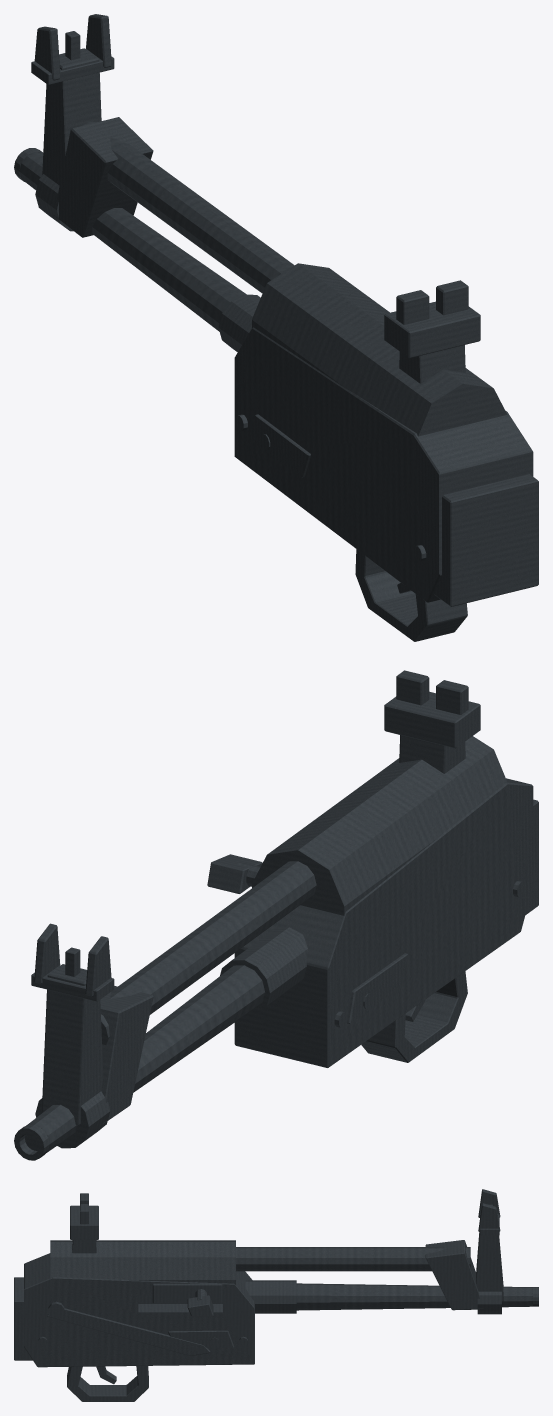
The model's file is weapon_aks74u.glb.
3 renders of one model, top to bottom at view 1: azimuth 30°, elevation 25°; view 2: azimuth 150°, elevation 25°; view 3: azimuth 270°, elevation 25°, orthographic. The views are drawn at different scales.
Visible parts, largest first — view 1: body_LOD0; view 2: body_LOD0, action_LOD0; view 3: body_LOD0, action_LOD0.
Boxes of the visible parts, bbox=[...] form: body_LOD0: bbox=[14, 14, 538, 641]; body_LOD0: bbox=[14, 670, 538, 1160]; action_LOD0: bbox=[207, 854, 262, 893]; body_LOD0: bbox=[14, 1189, 538, 1401]; action_LOD0: bbox=[152, 1283, 222, 1316].
Size of what is drawn, in the model's own units: 0.1398 by 0.2907 by 0.693.
1 material, 1 textured.
